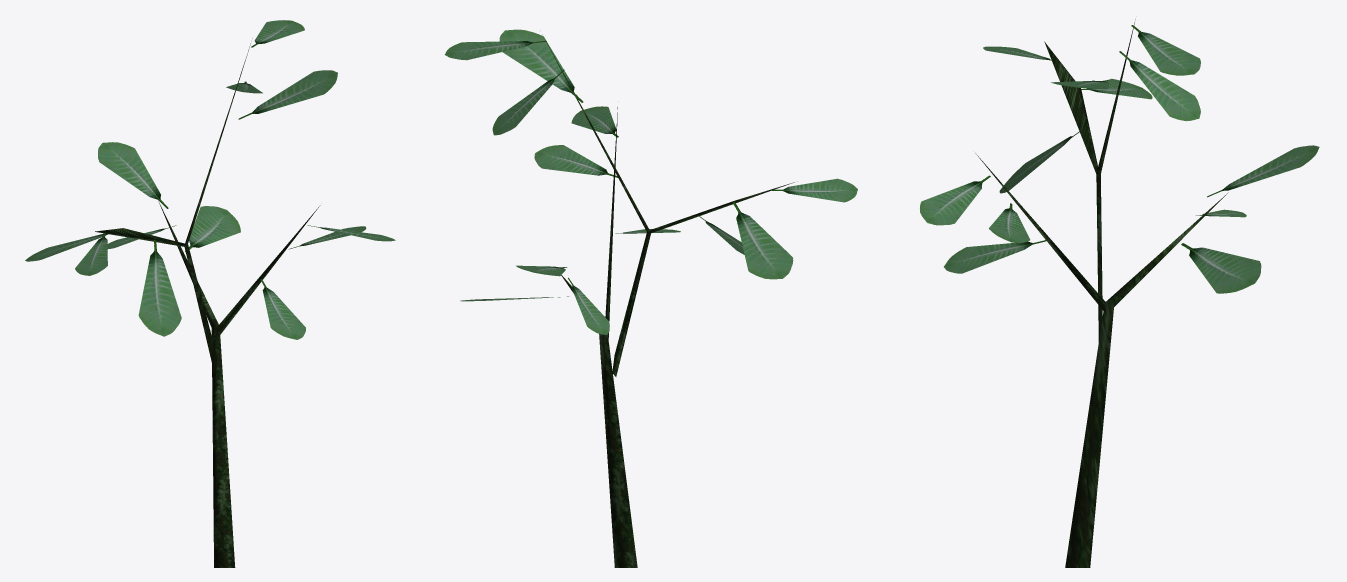
File: leaf_forestsprout_l2.fbx
3 views of the same model, side by side, from view 1: azimuth 30°, elevation 25°; view 2: azimuth 150°, elevation 25°; view 3: azimuth 270°, elevation 25° (orthographic). The views are drawn at different scales.
Visible parts, largest first — view 1: mesh_node; view 2: mesh_node; view 3: mesh_node.
Boxes of the visible parts, bbox=[...] form: mesh_node: bbox=[25, 20, 395, 567]; mesh_node: bbox=[444, 29, 857, 567]; mesh_node: bbox=[920, 19, 1319, 567].
Size of the model in its own units: 0.7439 by 1.08 by 0.7284.
Materials: 1 (1 with a texture image).
